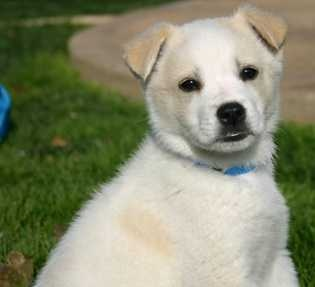Dog: (39, 6, 293, 286)
